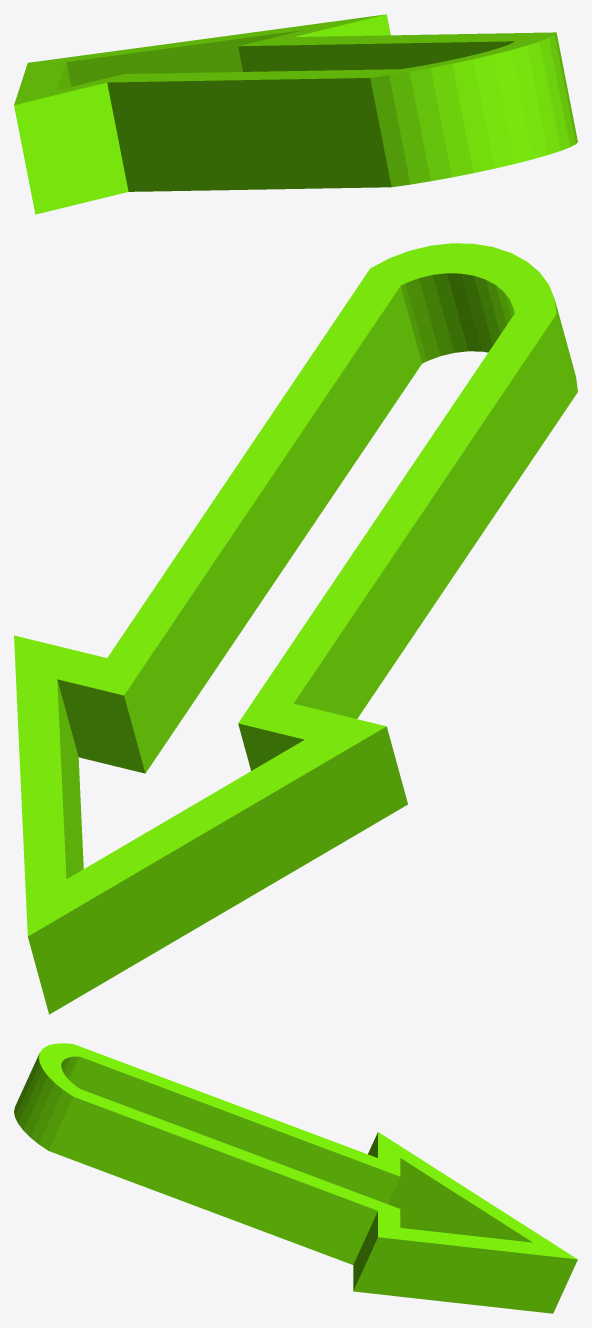
The model's file is arrow.obj.
3 renders of one model, top to bottom at view 1: azimuth 30°, elevation 25°; view 2: azimuth 150°, elevation 25°; view 3: azimuth 270°, elevation 25°, orthographic. The views are drawn at different scales.
Visible parts, largest first — view 1: Model; view 2: Model; view 3: Model.
Part boxes in pixels (box(x1,y1,x2,y2)): Model: box(14, 14, 577, 214); Model: box(14, 243, 577, 1014); Model: box(14, 1043, 577, 1313).
Size of the model in its own units: 78.74 by 89.34 by 178.
